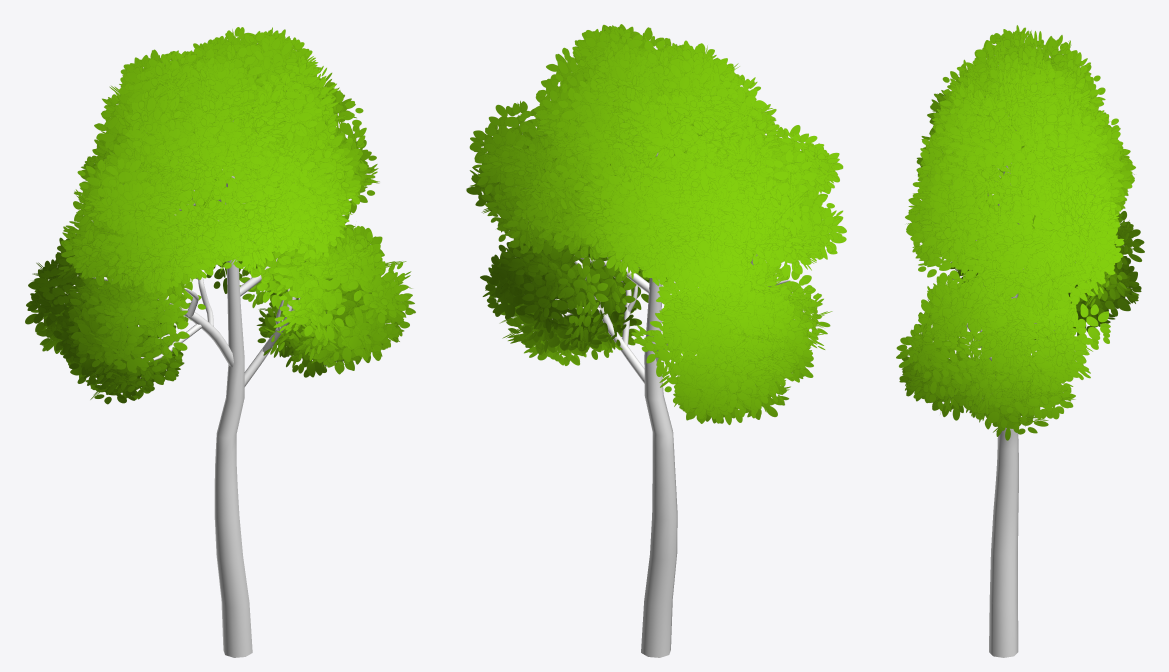
File: normal_tree_1.glb
3 renders of one model, left to right at view 1: azimuth 30°, elevation 25°; view 2: azimuth 150°, elevation 25°; view 3: azimuth 270°, elevation 25°, orthographic. The views are drawn at different scales.
Parts seen in each view (by area): view 1: NormalTree_1.001; view 2: NormalTree_1.001; view 3: NormalTree_1.001.
Boxes of the visible parts, x1=… form: NormalTree_1.001: x1=25, y1=27, x2=415, y2=657; NormalTree_1.001: x1=466, y1=24, x2=846, y2=657; NormalTree_1.001: x1=896, y1=25, x2=1144, y2=657.
Bounding box in the file's own units: 4.05 × 6.87 × 2.74.
2 materials, 1 textured.
